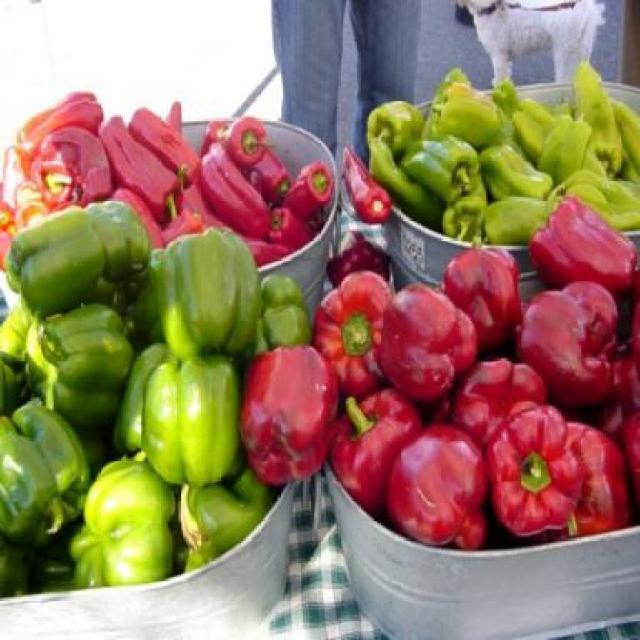Bell pepper: (0, 66, 638, 581)
